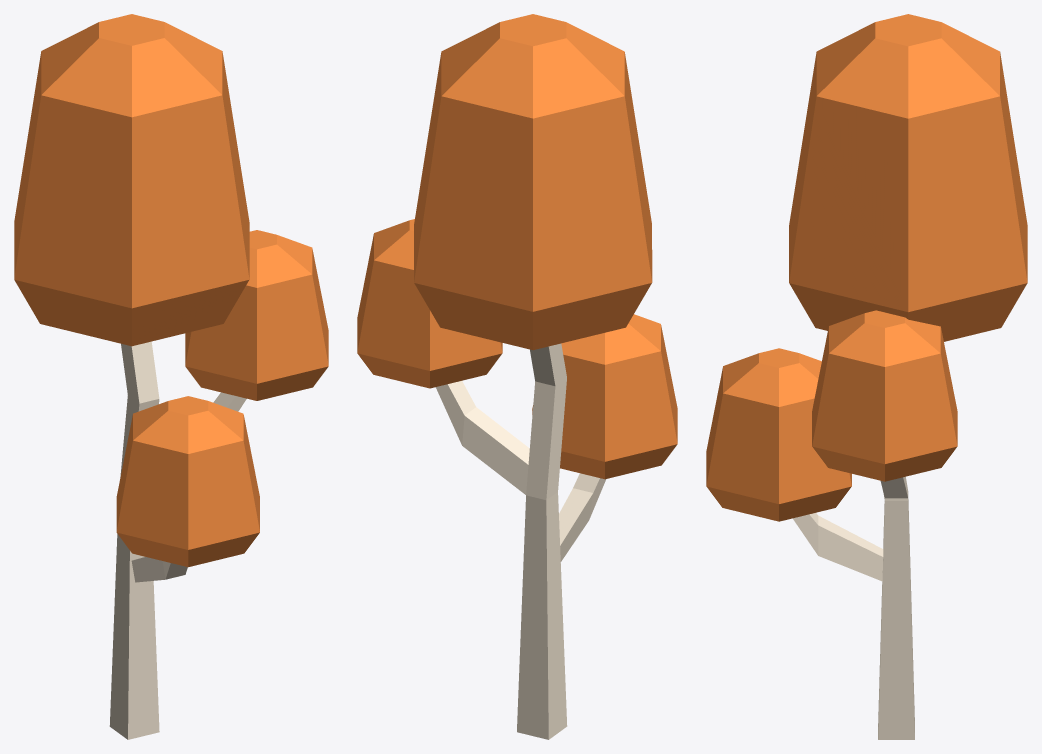
Rendered from d_kenney_arbre_automne.glb.
3 renders of one model, left to right at view 1: azimuth 30°, elevation 25°; view 2: azimuth 150°, elevation 25°; view 3: azimuth 270°, elevation 25°, orthographic.
Parts seen in each view (by area): view 1: d_kenney_arbre_automne; view 2: d_kenney_arbre_automne; view 3: d_kenney_arbre_automne.
Boxes of the visible parts, x1,y1,x2,y2 form: d_kenney_arbre_automne: (14, 14, 328, 739); d_kenney_arbre_automne: (357, 14, 677, 739); d_kenney_arbre_automne: (706, 14, 1027, 739).
Bounding box in the file's own units: 0.6805 × 1.49 × 0.6166.
1 material, 1 textured.
